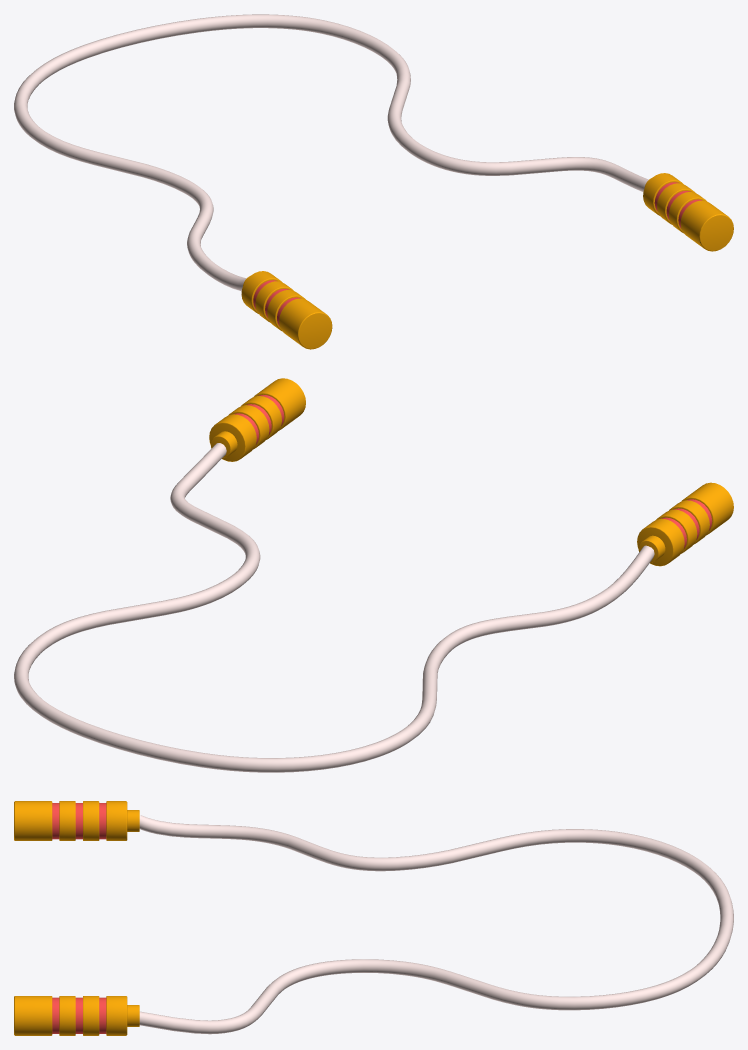
The model's file is Public_18_Jumping_Rope_1.glb.
3 views of the same model, one above another, from view 1: azimuth 30°, elevation 25°; view 2: azimuth 150°, elevation 25°; view 3: azimuth 270°, elevation 25° (orthographic). The views are drawn at different scales.
Visible parts, largest first — view 1: Public_18_Jumping_Rope_1; view 2: Public_18_Jumping_Rope_1; view 3: Public_18_Jumping_Rope_1.
Boxes of the visible parts, left/top/right/bottom form: Public_18_Jumping_Rope_1: left=14, top=14, right=733, bottom=349; Public_18_Jumping_Rope_1: left=14, top=378, right=733, bottom=772; Public_18_Jumping_Rope_1: left=14, top=801, right=733, bottom=1035.
Size of the model in its own units: 2.95 by 0.2365 by 4.24.
Materials: 1 (1 with a texture image).
